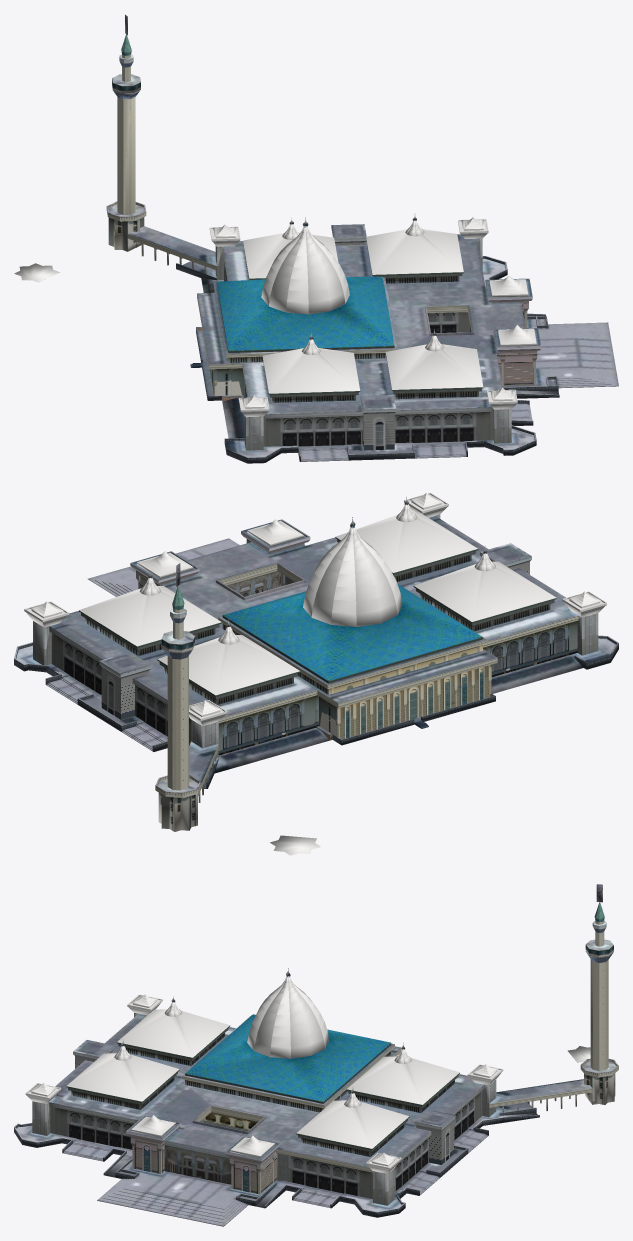
3 views of the same model, one above another, from view 1: azimuth 30°, elevation 25°; view 2: azimuth 150°, elevation 25°; view 3: azimuth 270°, elevation 25° (orthographic). The views are drawn at different scales.
Parts seen in each view (by area): view 1: alakbar; view 2: alakbar; view 3: alakbar.
Boxes of the visible parts, box(x1,y1,x2,y2) form: alakbar: box(14, 14, 618, 463); alakbar: box(14, 492, 618, 855); alakbar: box(14, 884, 618, 1226).
Size of the model in its own units: 13499 by 7012 by 17937.
